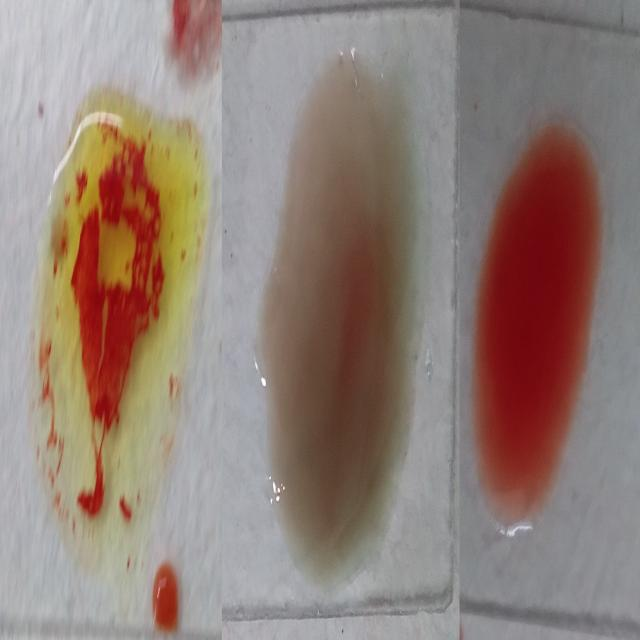B: (38, 105, 192, 567)
